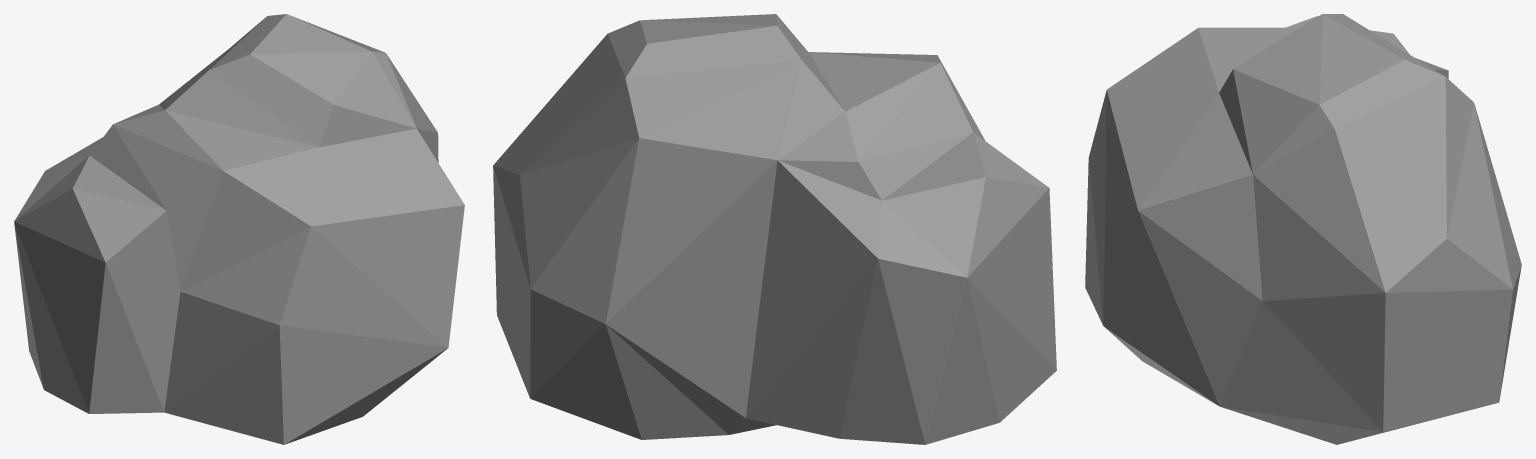
File: rock1.glb
3 views of the same model, side by side, from view 1: azimuth 30°, elevation 25°; view 2: azimuth 150°, elevation 25°; view 3: azimuth 270°, elevation 25° (orthographic). The views are drawn at different scales.
Parts seen in each view (by area): view 1: rock2.natural.light; view 2: rock2.natural.light; view 3: rock2.natural.light.
Part boxes in pixels (bbox=[...]): rock2.natural.light: bbox=[14, 14, 464, 444]; rock2.natural.light: bbox=[493, 14, 1056, 444]; rock2.natural.light: bbox=[1085, 14, 1521, 444].
Size of the model in its own units: 3.5 by 2.59 by 2.93.
1 material, 1 textured.
